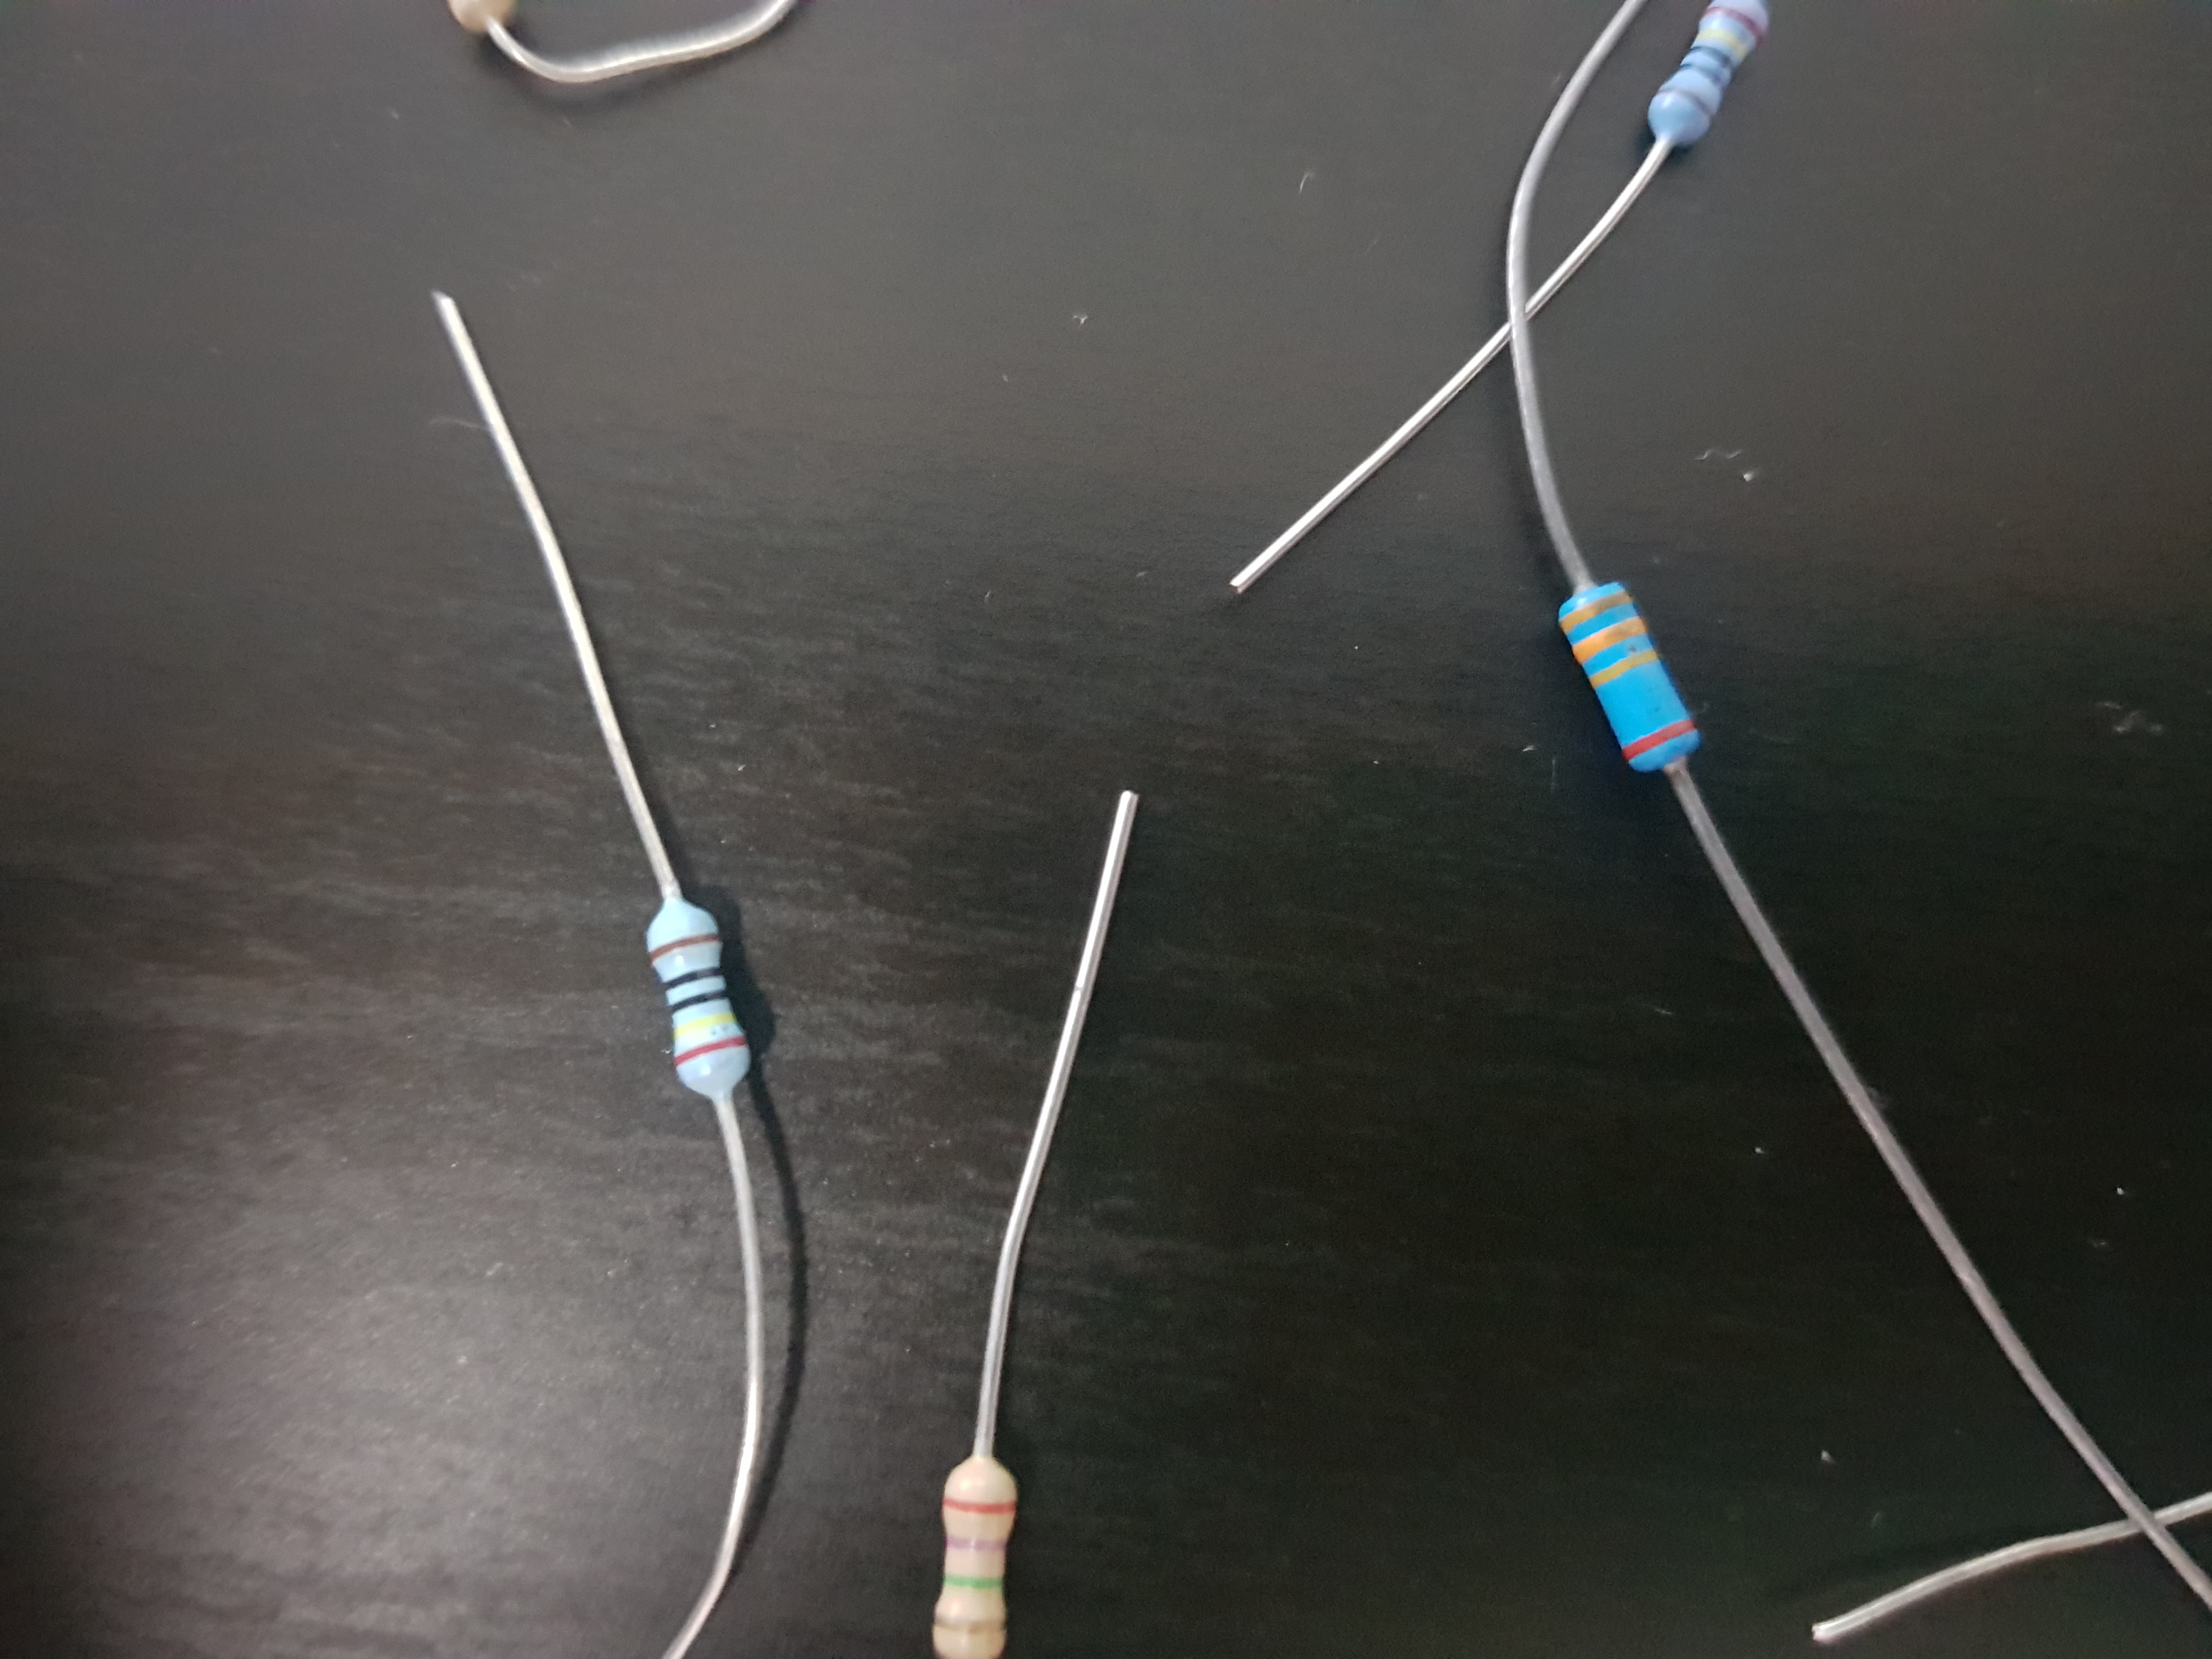resistor: (1465, 458, 1761, 945), (571, 816, 833, 1152), (911, 1405, 1090, 1659), (1564, 0, 1822, 173)
